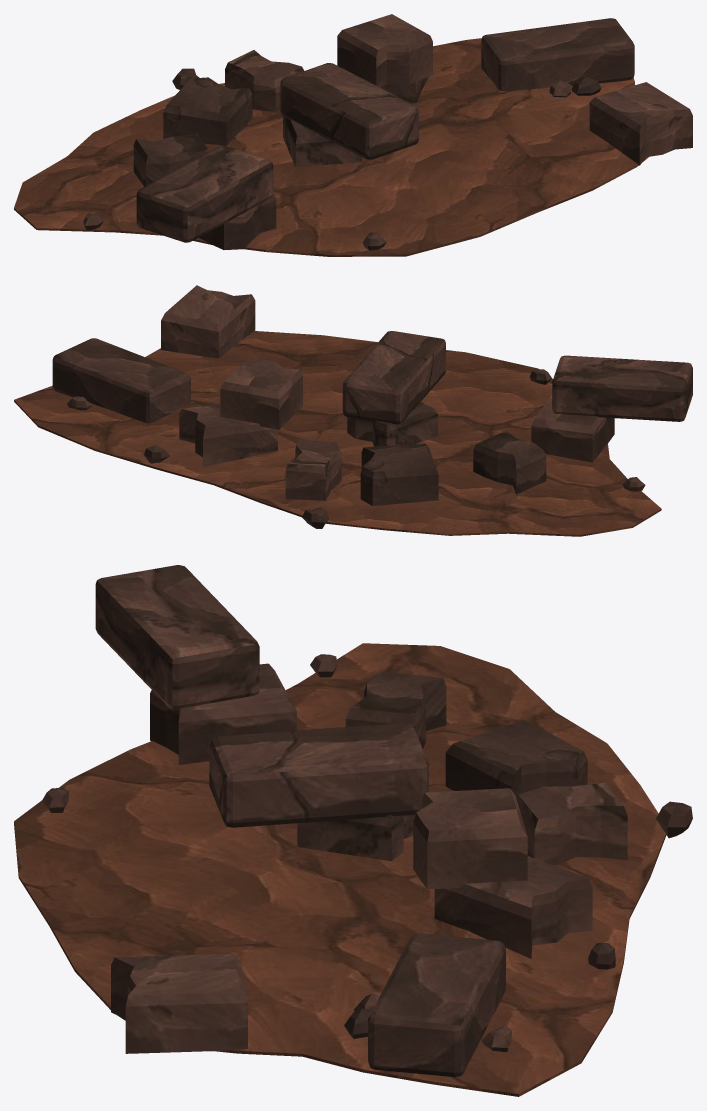
The model's file is junk_rubble_brick.glb.
3 renders of one model, top to bottom at view 1: azimuth 30°, elevation 25°; view 2: azimuth 150°, elevation 25°; view 3: azimuth 270°, elevation 25°, orthographic. The views are drawn at different scales.
Parts seen in each view (by area): view 1: model; view 2: model; view 3: model.
Boxes of the visible parts, x1=… form: model: x1=14, y1=14, x2=692, y2=256; model: x1=14, y1=285, x2=692, y2=536; model: x1=14, y1=565, x2=692, y2=1096.
Size of the model in its own units: 1.02 by 0.1245 by 0.6511.
4 materials, 4 textured.
